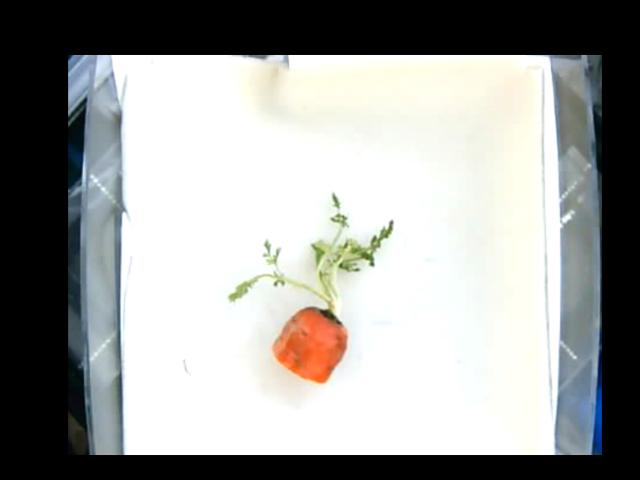Carrot: (228, 192, 394, 384)
